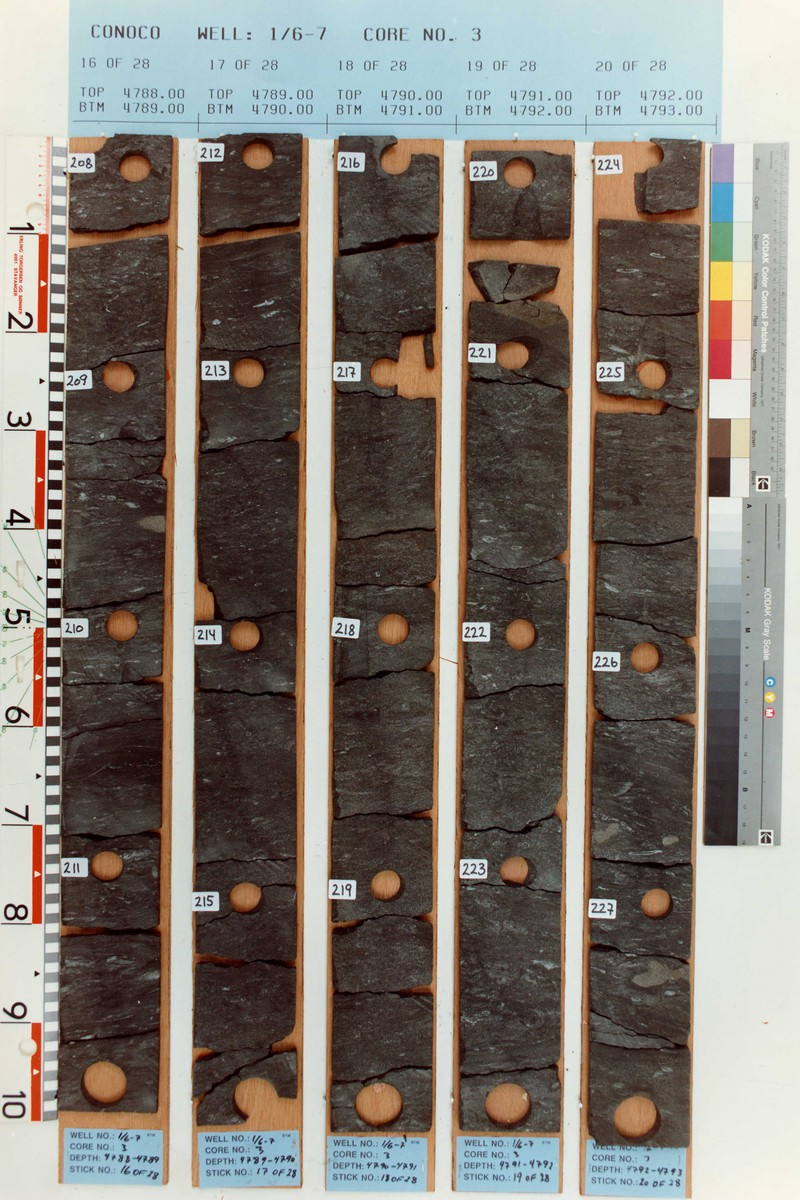core: (56, 134, 178, 1114), (458, 141, 571, 1134), (587, 138, 697, 1147), (329, 134, 436, 1136), (197, 131, 302, 1122)
